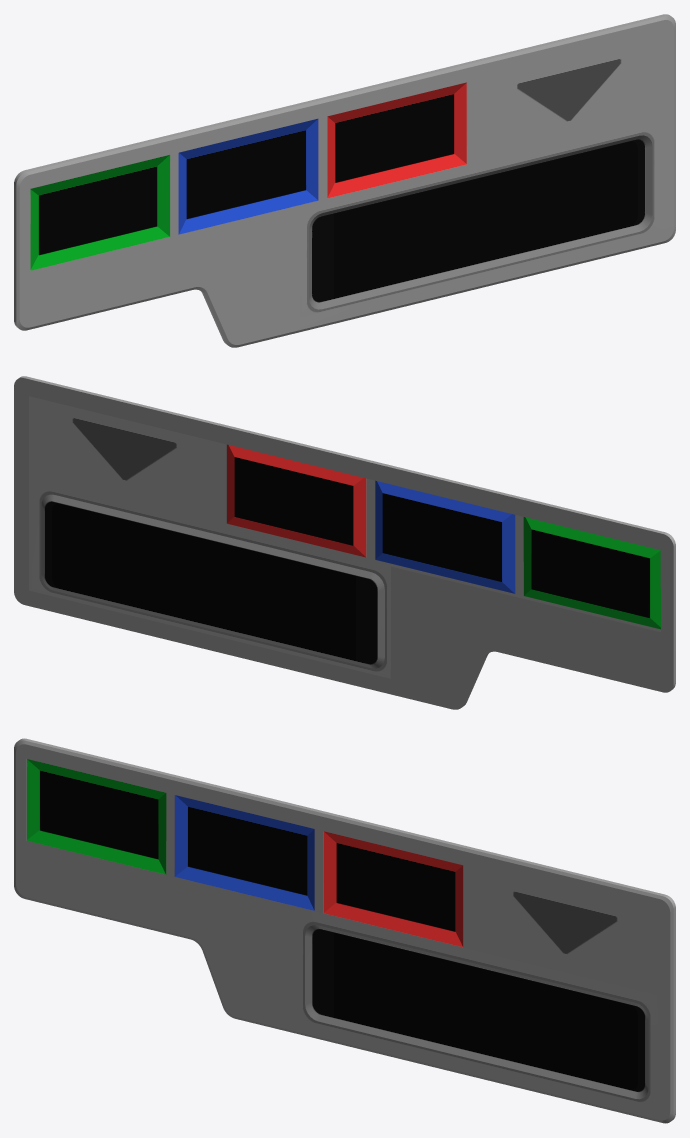
The model's file is mesh_score_frame_bevel.fbx.
3 views of the same model, one above another, from view 1: azimuth 30°, elevation 25°; view 2: azimuth 150°, elevation 25°; view 3: azimuth 330°, elevation 25° (orthographic).
Parts seen in each view (by area): view 1: mesh_score_frame_bevel; view 2: mesh_score_frame_bevel; view 3: mesh_score_frame_bevel.
Boxes of the visible parts, <box> form: mesh_score_frame_bevel: <box>14,14,675,347</box>; mesh_score_frame_bevel: <box>14,376,675,709</box>; mesh_score_frame_bevel: <box>14,738,675,1123</box>.
Bounding box in the file's own units: 649 × 213 × 5.32.
